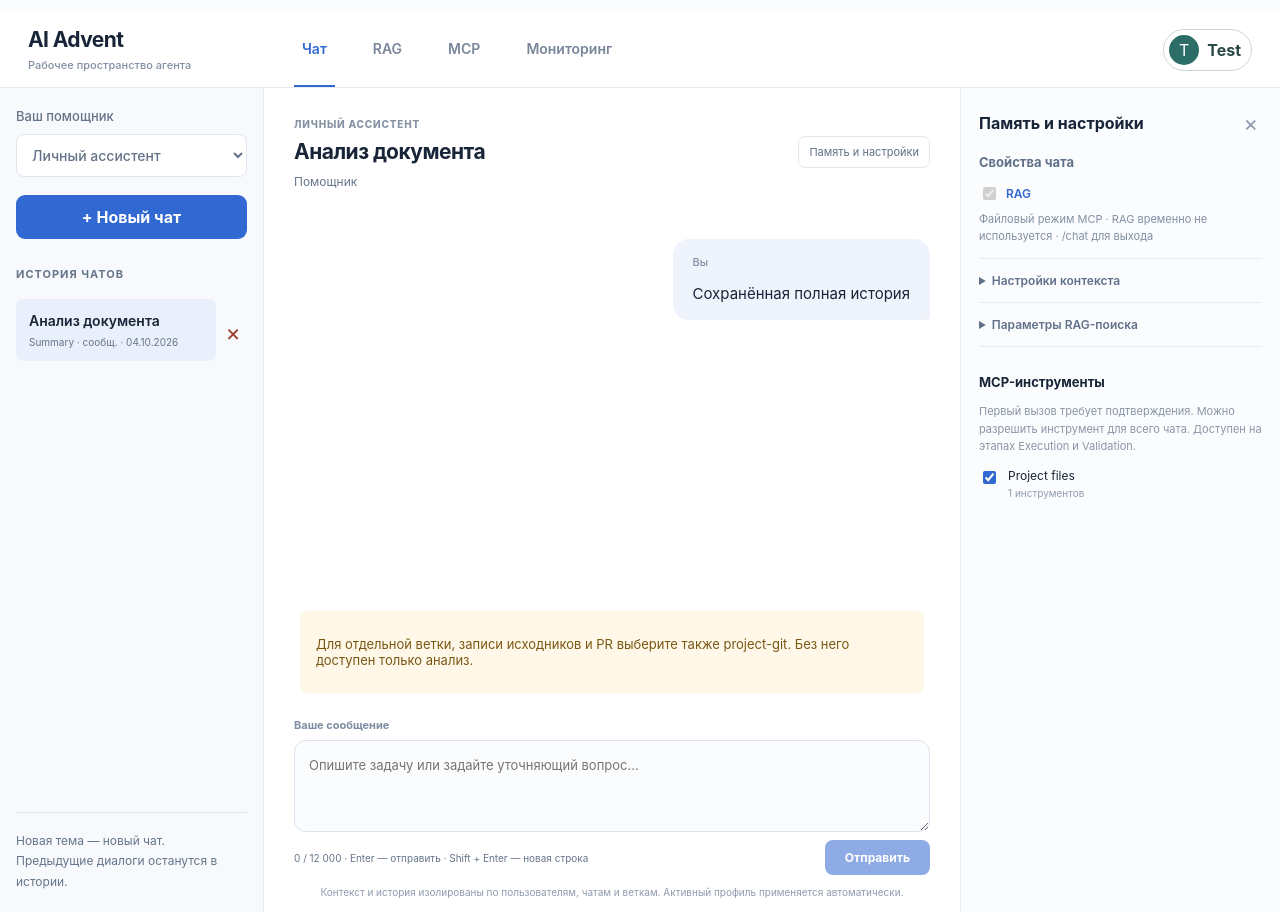
Scenario: restores file mode and keeps followups out of RAG until an explicit chat command
Expected: the text "Сохранённая полная история" is shown, [692, 281, 910, 306]
Expected: the text "Файловый режим MCP · RAG временно не используется · /chat для выхода" is shown, [979, 212, 1207, 242]
Type "Приступай" into the text box labelled "Ваше сообщение".
click(612, 786); type("Приступай")  # box [294, 740, 930, 832]
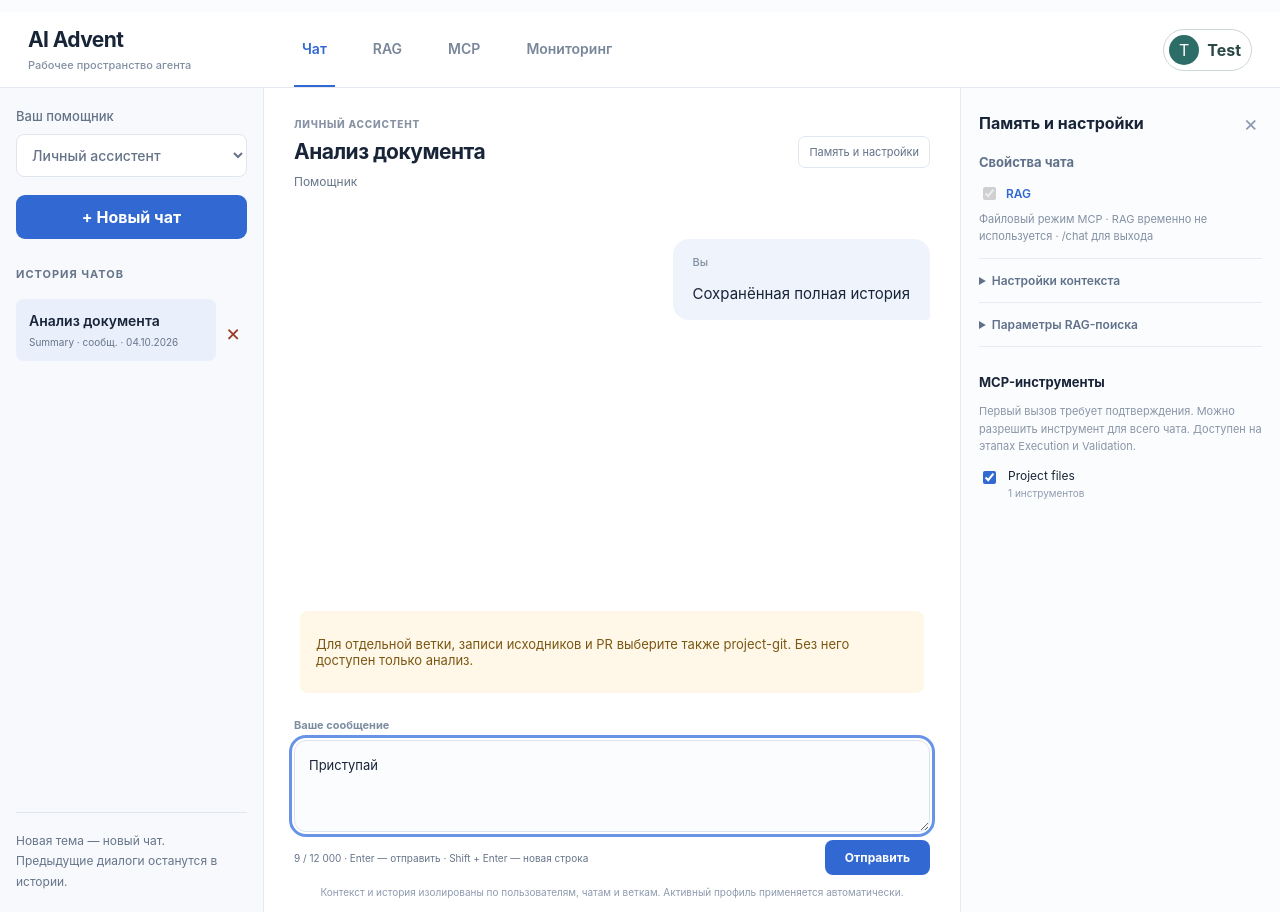
Click the button "Отправить".
click(877, 858)  # box [825, 840, 930, 875]
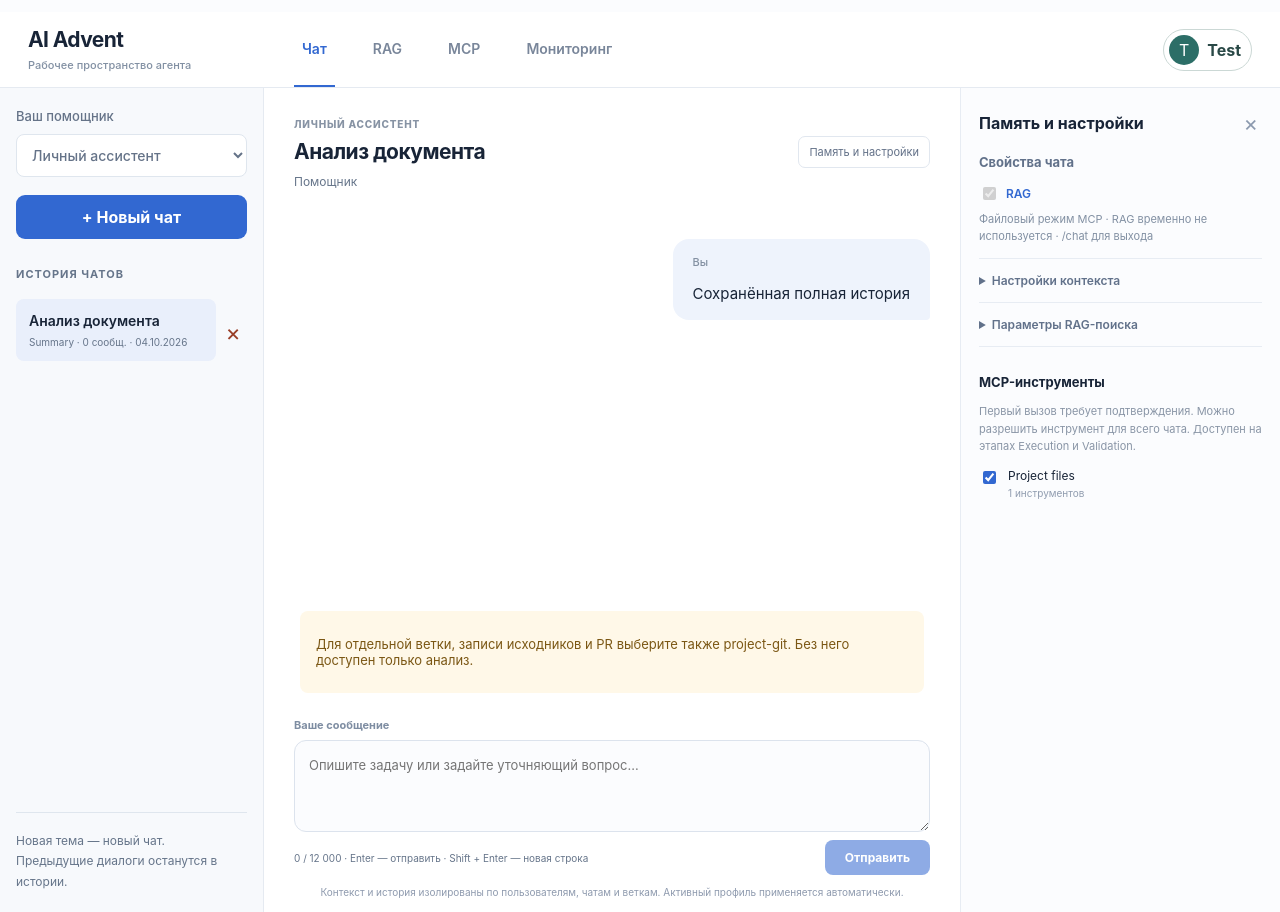
Type "/chat Вопрос по документам" into the text box labelled "Ваше сообщение".
click(612, 786); type("/chat Вопрос по документам")  # box [294, 740, 930, 832]
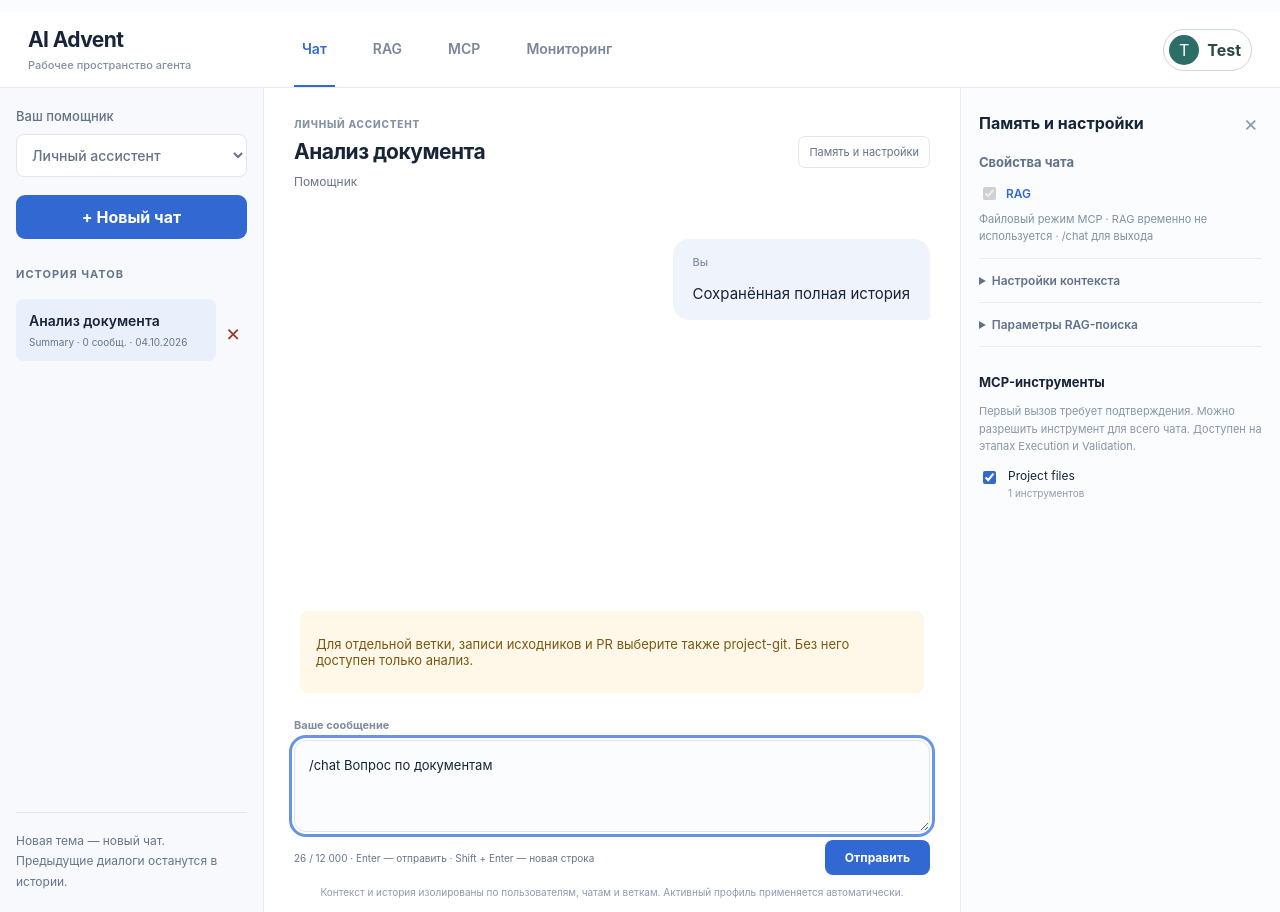
Click the button "Отправить".
click(877, 858)  # box [825, 840, 930, 875]
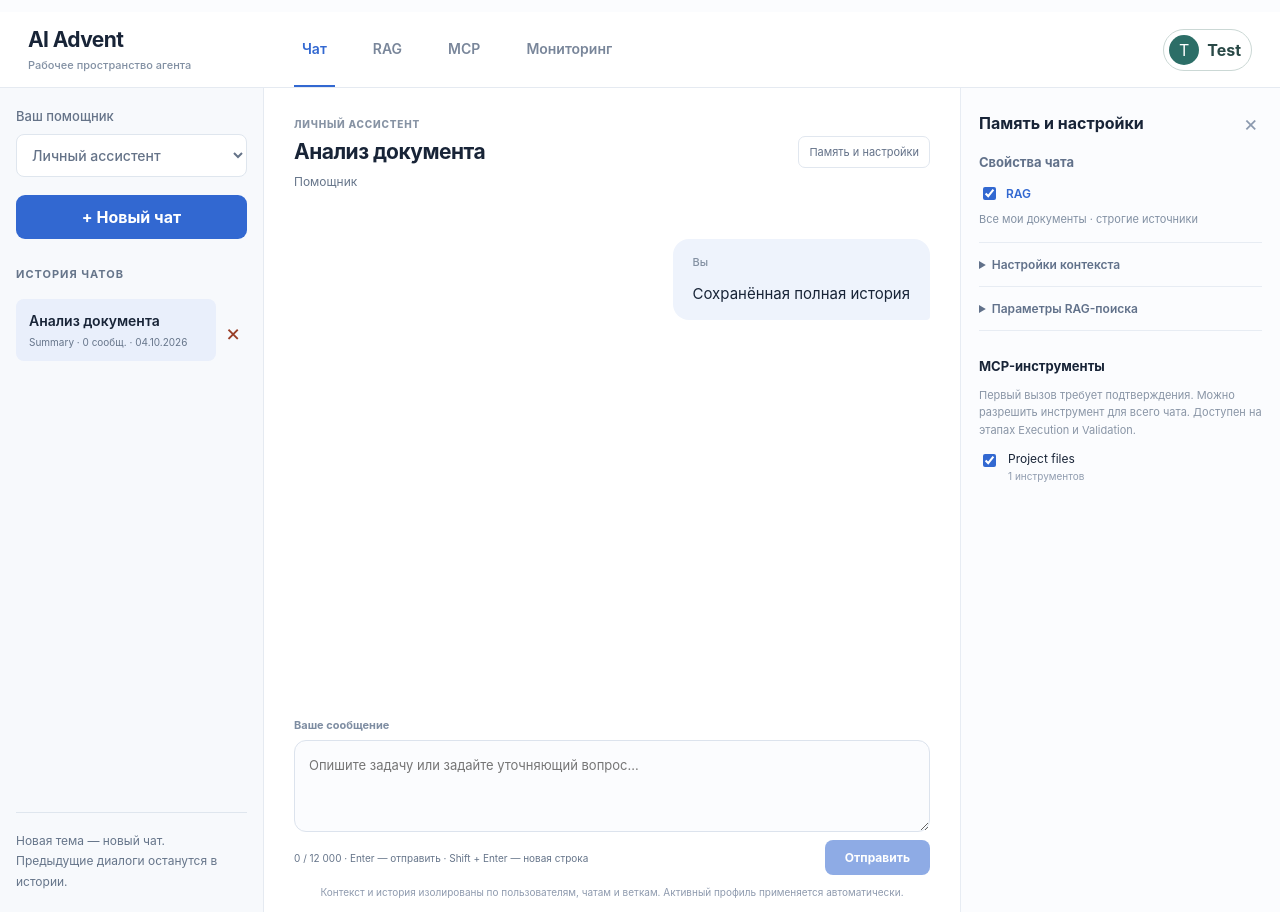
Expected: the text "Все мои документы · строгие источники" is shown, [979, 212, 1198, 226]
